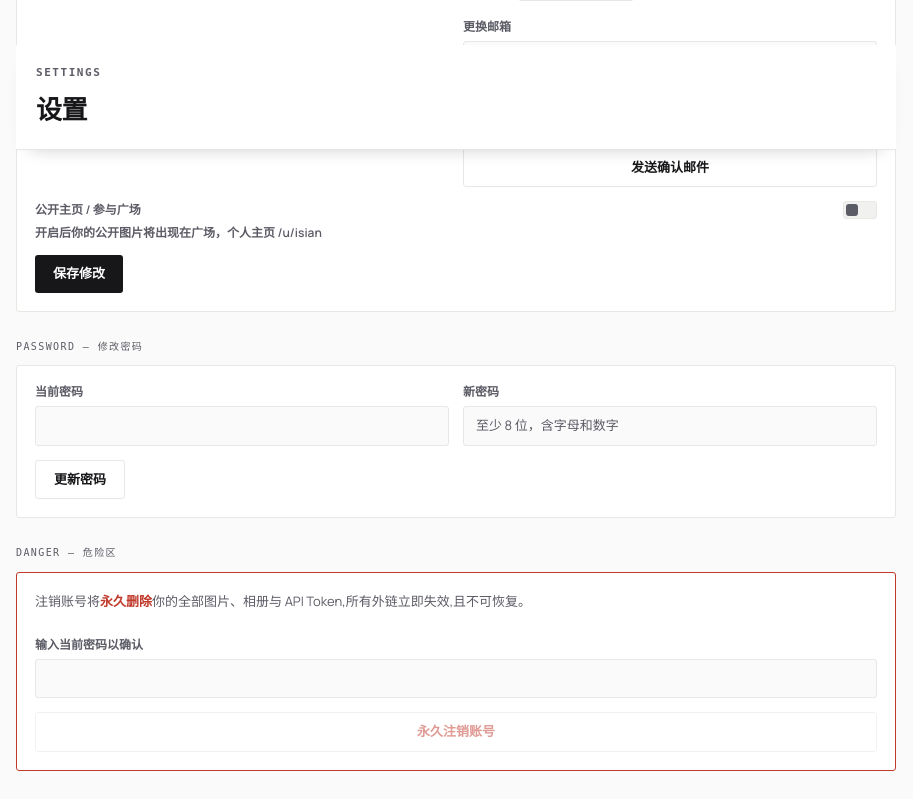
危险区:两击注销发 DELETE /user;密码错误行内提示
(page scrolled)
Type "wrong-pass" into the password field labelled "输入当前密码以确认".
click(456, 679); type("wrong-pass")  # box [35,659,877,698]
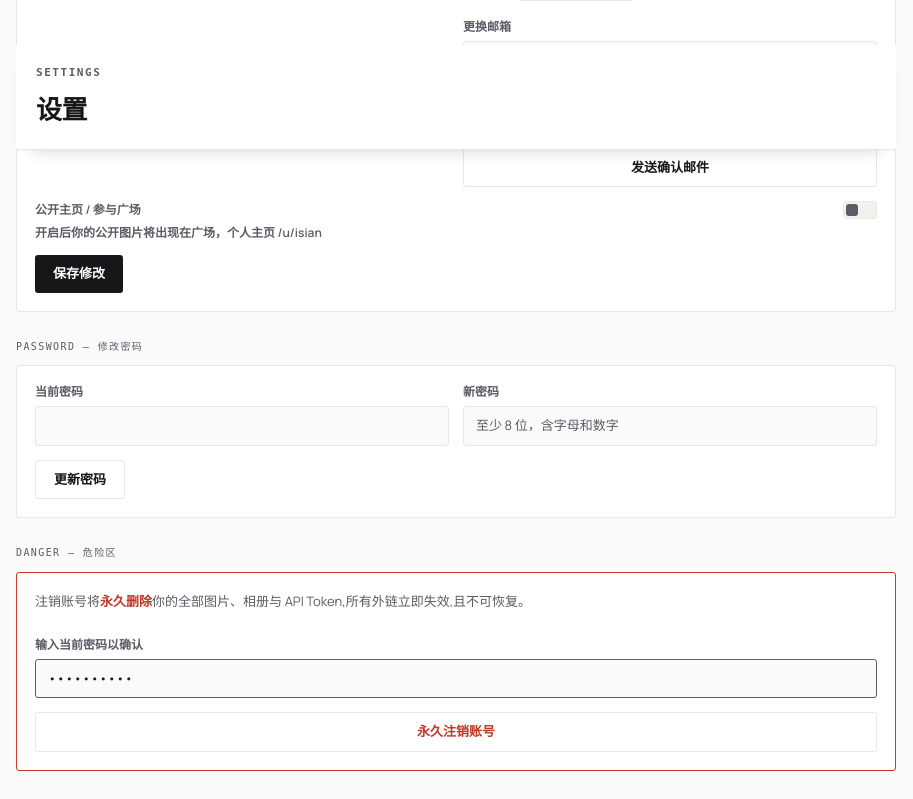
Click the button "永久注销账号".
click(456, 732)  # box [35,712,877,752]
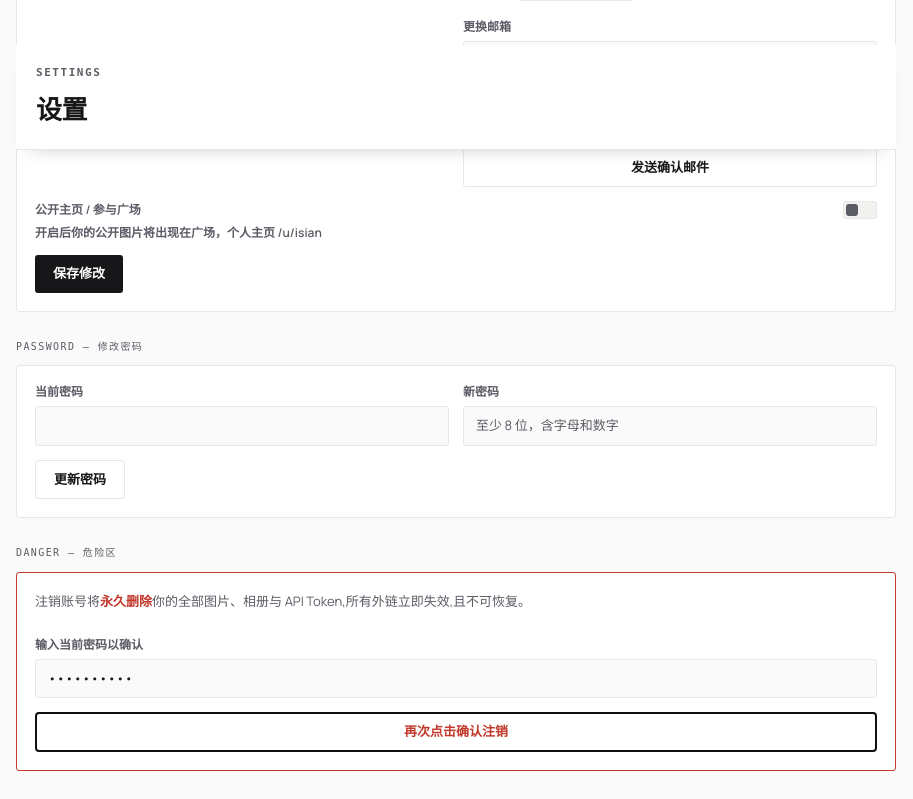
Click the button "再次点击确认注销".
click(456, 732)  # box [35,712,877,752]
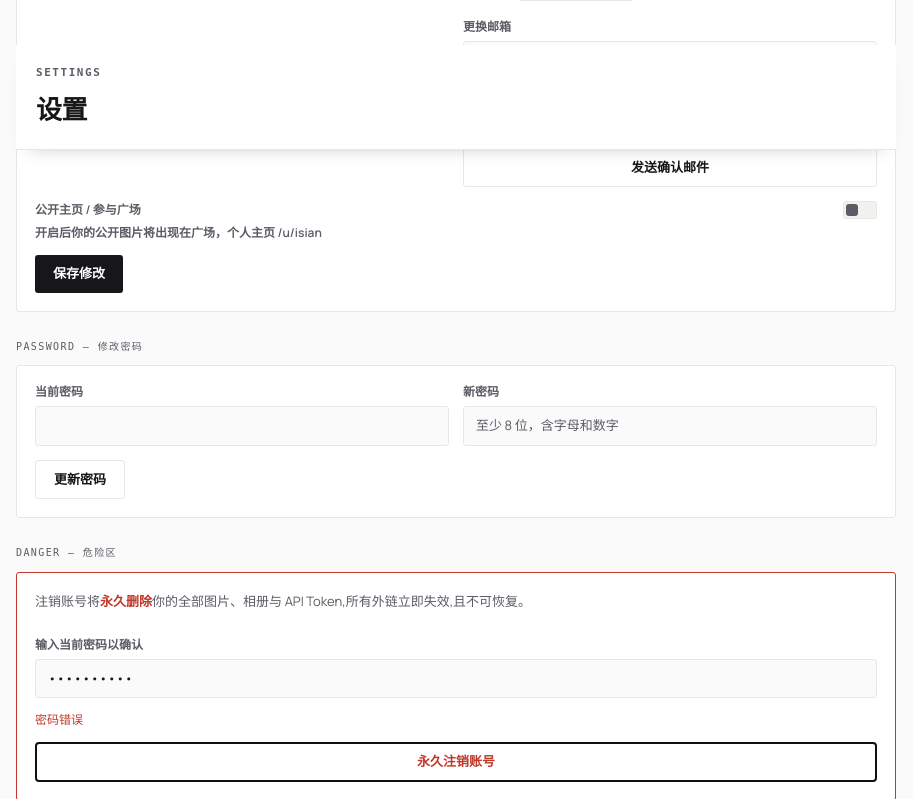
expect the text "密码错误" is shown: met, box [35,712,83,728]
